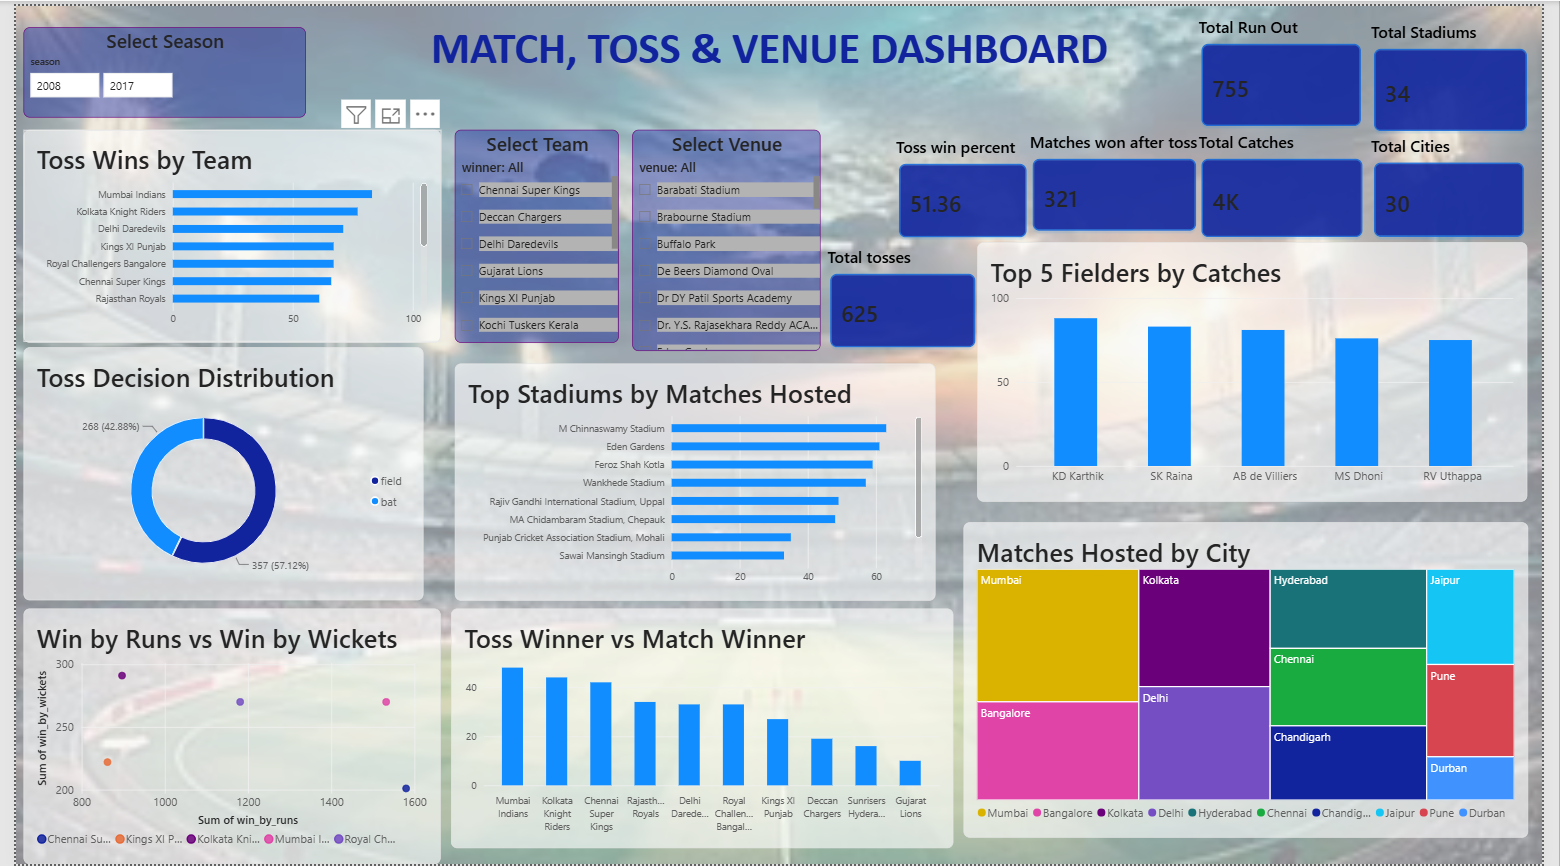

Layout of this report page (visuals, bound fields, positions):
{"tool":"powerbi","page":{"name":"IPL MATCH & TOSS ANALYSIS","canvas":[1920,1080],"ordinal":4},"visuals":[{"type":"textbox","box":[10.5,0,1873.3,143],"z":0},{"type":"cardVisual","title":"Total tosses","fields":{"Data":["matches.Total Tosses"]},"box":[1020,301.7,190,131.7],"z":1000},{"type":"cardVisual","title":"Toss win percent","fields":{"Data":["matches.Toss_Win_Percentage"]},"box":[1106.7,163.3,168.3,131.7],"z":2000},{"type":"cardVisual","title":"Matches won after toss","fields":{"Data":["matches.Matches Won After Toss"]},"box":[1275,156.7,213.3,130],"z":3000},{"type":"barChart","title":"Toss Wins by Team","fields":{"Category":["matches.toss_winner"],"Y":["matches.Toss Wins"]},"box":[10,155,525,268.3],"z":4000},{"type":"donutChart","title":"Toss Decision Distribution","fields":{"Category":["matches.toss_decision"],"Y":["CountNonNull(matches.toss_decision)"]},"box":[10,430,503.3,318.3],"z":5000},{"type":"columnChart","title":"Toss Winner vs Match Winner","fields":{"Y":["matches.Matches Won After Toss"],"Category":["matches.toss_winner"]},"box":[546.7,758.3,631.7,301.7],"z":6000},{"type":"scatterChart","title":"Win by Runs vs Win by Wickets","fields":{"X":["Sum(matches.win_by_runs)"],"Y":["Sum(matches.win_by_wickets)"],"Series":["matches.winner"]},"box":[10,758.3,525,321.7],"z":7000},{"type":"slicer","title":"Select Season","fields":{"Values":["matches.season"]},"box":[10,26.7,355,113.3],"z":8000},{"type":"slicer","title":"Select Team","fields":{"Values":["matches.winner"]},"box":[551.7,155,206.7,268.3],"z":9000},{"type":"slicer","title":"Select Venue","fields":{"Values":["matches.venue"]},"box":[775,155,236.7,278.3],"z":10000},{"type":"barChart","title":"Top Stadiums by Matches Hosted","fields":{"Category":["matches.venue"],"Y":["matches.Matches Played"]},"box":[551.7,450,605,298.3],"z":11000},{"type":"columnChart","title":"Top 5 Fielders by Catches","fields":{"Category":["deliveries.fielder"],"Y":["deliveries.Catches Taken"]},"box":[1210,296.7,691.7,326.7],"z":12000},{"type":"treemap","title":"Matches Hosted by City","fields":{"Group":["matches.city"],"Values":["matches.Matches Played"]},"box":[1191.7,650,710,396.7],"z":13000},{"type":"cardVisual","title":"Total Stadiums","fields":{"Data":["matches.Total Stadiums"]},"box":[1705,18.3,200,143.3],"z":14000},{"type":"cardVisual","title":"Total Cities","fields":{"Data":["matches.Total Cities"]},"box":[1705,161.7,196.7,133.3],"z":15000},{"type":"cardVisual","title":"Total Catches","fields":{"Data":["deliveries.Total Catches"]},"box":[1488.3,156.7,210,138.3],"z":16000},{"type":"cardVisual","title":"Total Run Out","fields":{"Data":["deliveries.Total Run Outs"]},"box":[1488.3,13.3,208.3,143.3],"z":17000}]}

Visuals, with their boxes in screenshot pixels (x1, y1, x2, y2), scaled from the page's 1920x1080 canvas onto the 1560x866 screenshot:
textbox: select_region(9, 0, 1531, 115)
"Total tosses" cardVisual: select_region(829, 242, 983, 348)
"Toss win percent" cardVisual: select_region(899, 131, 1036, 237)
"Matches won after toss" cardVisual: select_region(1036, 126, 1209, 230)
"Toss Wins by Team" barChart: select_region(8, 124, 435, 339)
"Toss Decision Distribution" donutChart: select_region(8, 345, 417, 600)
"Toss Winner vs Match Winner" columnChart: select_region(444, 608, 957, 850)
"Win by Runs vs Win by Wickets" scatterChart: select_region(8, 608, 435, 865)
"Select Season" slicer: select_region(8, 21, 297, 112)
"Select Team" slicer: select_region(448, 124, 616, 339)
"Select Venue" slicer: select_region(630, 124, 822, 347)
"Top Stadiums by Matches Hosted" barChart: select_region(448, 361, 940, 600)
"Top 5 Fielders by Catches" columnChart: select_region(983, 238, 1545, 500)
"Matches Hosted by City" treemap: select_region(968, 521, 1545, 839)
"Total Stadiums" cardVisual: select_region(1385, 15, 1548, 130)
"Total Cities" cardVisual: select_region(1385, 130, 1545, 237)
"Total Catches" cardVisual: select_region(1209, 126, 1380, 237)
"Total Run Out" cardVisual: select_region(1209, 11, 1378, 126)
